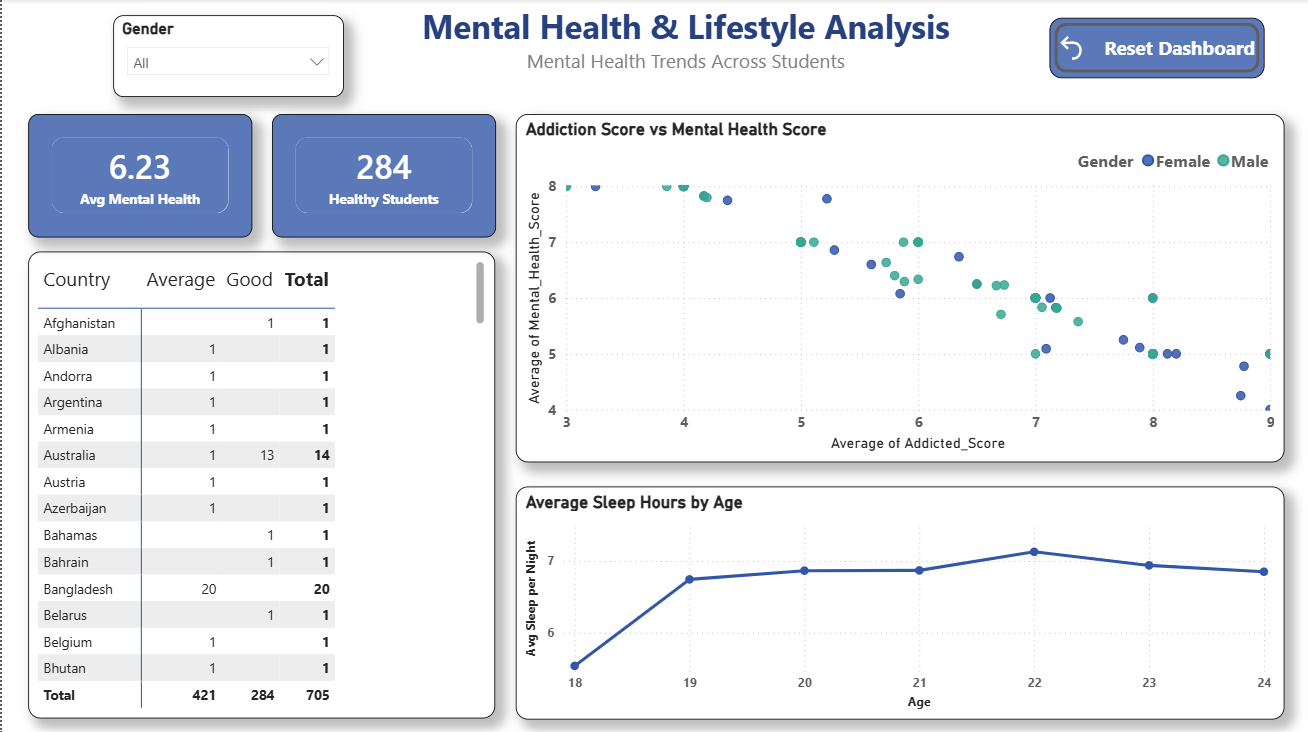

The dashboard page shown, as its layout file describes it:
{"tool":"powerbi","page":{"name":"Mental Health & Lifestyle ","canvas":[1280,720],"ordinal":1},"visuals":[{"type":"pivotTable","fields":{"Rows":["Student Details.Country"],"Columns":["Student Details.Health_Band"],"Values":["CountNonNull(Platform Details.Student_ID)"]},"box":[26.1,247,456.9,456.9],"z":0},{"type":"scatterChart","title":"Addiction Score vs Mental Health Score","fields":{"X":["Avg(Student Details.Addicted_Score)"],"Y":["Avg(Student Details.Mental_Health_Score)"],"Series":["Student Details.Gender"],"Category":["Student Details.Country"]},"box":[502.1,112.3,752.3,340.4],"z":1000},{"type":"lineChart","title":"Average Sleep Hours by Age","fields":{"Y":["Avg(Student Details.Sleep_Hours_Per_Night)"],"Category":["Student Details.Age"]},"box":[502.1,476.6,752.3,228.1],"z":2000},{"type":"textbox","box":[333.6,0,670.3,96.4],"z":3000},{"type":"actionButton","box":[1024.4,17.8,210.6,58.9],"z":4000},{"type":"cardVisual","fields":{"Data":["_Measures.Avg Mental Health"]},"box":[25.5,112.3,219.6,120.9],"z":5000},{"type":"cardVisual","fields":{"Data":["_Measures.Healthy Students"]},"box":[263.8,112.3,219.6,120.9],"z":6000},{"type":"slicer","title":"Gender","fields":{"Values":["Student Details.Gender"]},"box":[108.2,16.3,225.4,80.1],"z":7000}]}

Visuals, with their boxes in screenshot pixels (x1, y1, x2, y2), scaled from the page's 1280x720 canvas onto the 1308x732 screenshot:
pivotTable - Student Details.Country x Student Details.Health_Band: 27,251,494,716
"Addiction Score vs Mental Health Score" scatterChart: 513,114,1282,460
"Average Sleep Hours by Age" lineChart: 513,485,1282,716
textbox: 341,0,1026,98
actionButton: 1047,18,1262,78
cardVisual - _Measures.Avg Mental Health: 26,114,250,237
cardVisual - _Measures.Healthy Students: 270,114,494,237
"Gender" slicer: 111,17,341,98
